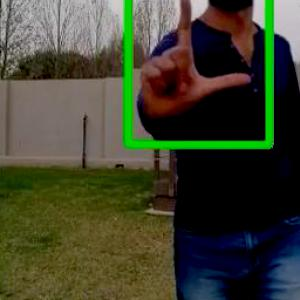land_hand: (134, 0, 256, 124)
